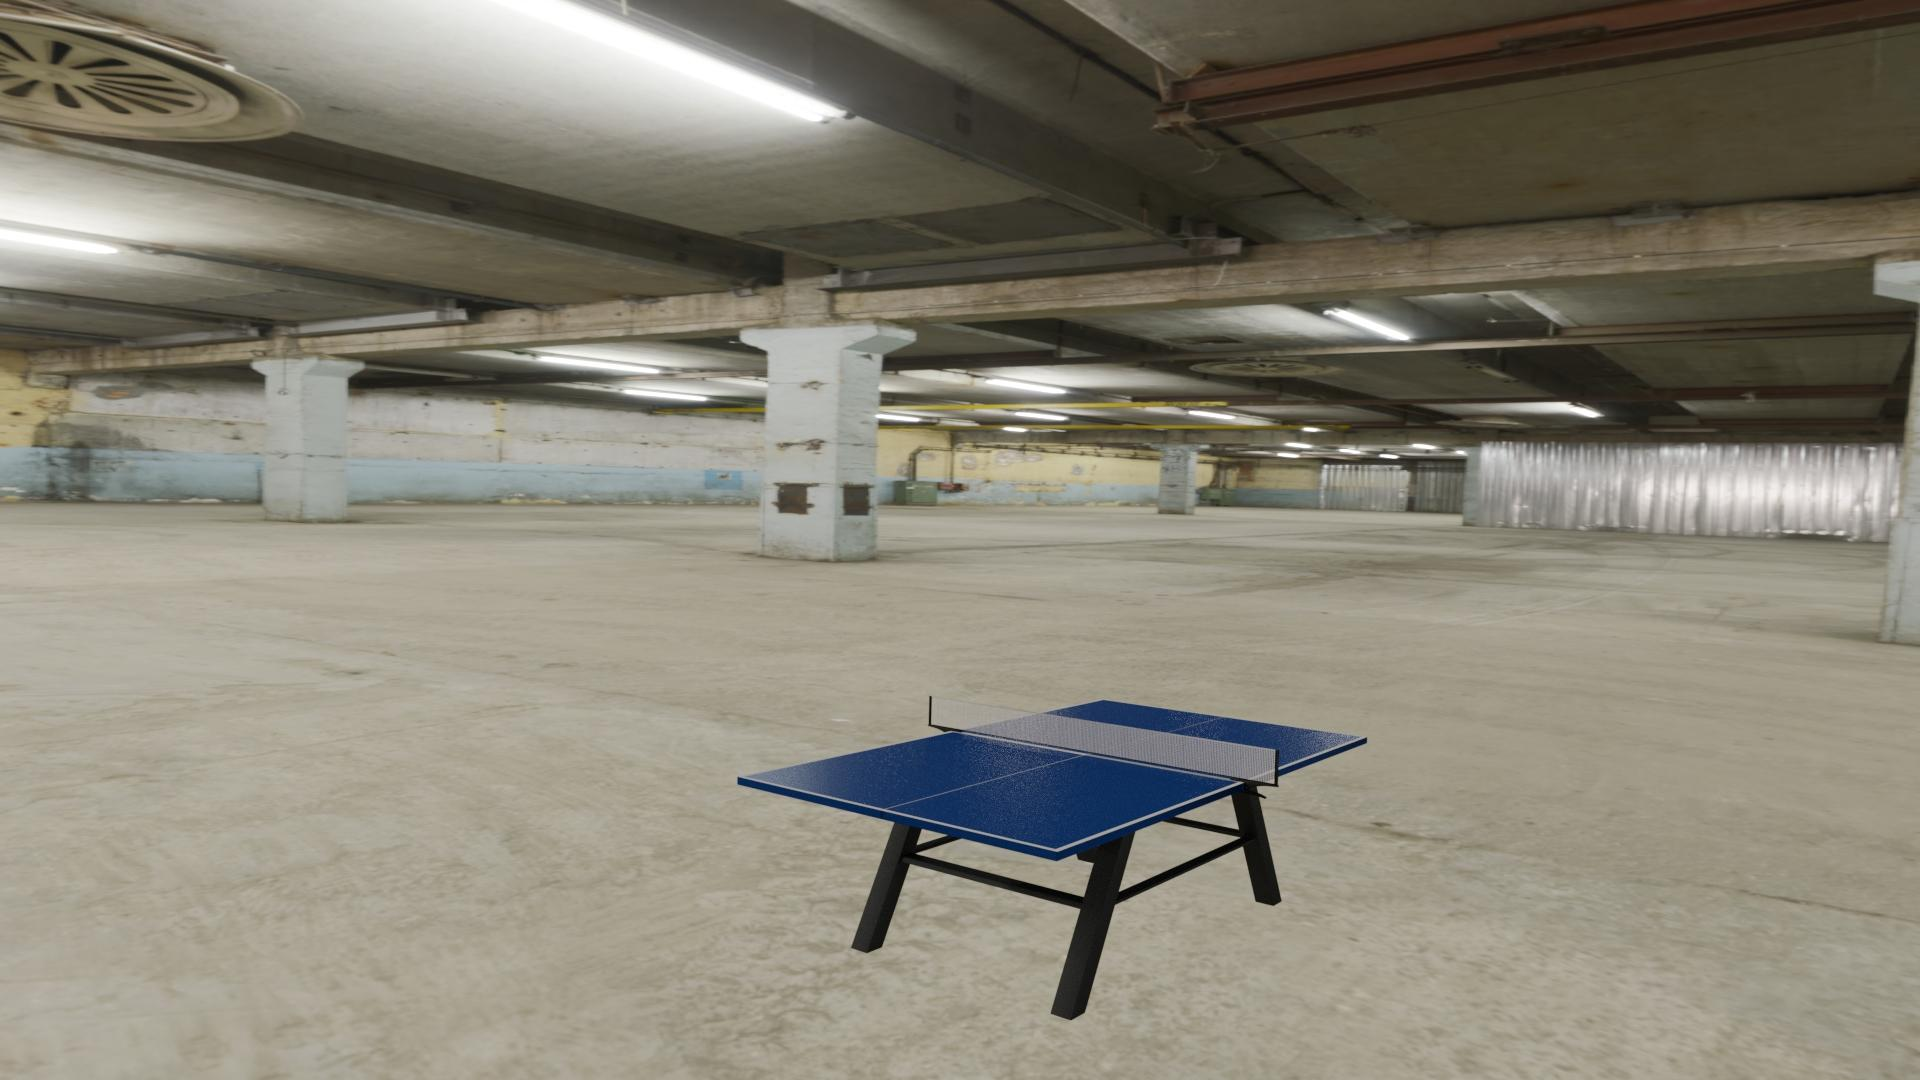table: (744, 700, 1362, 849)
